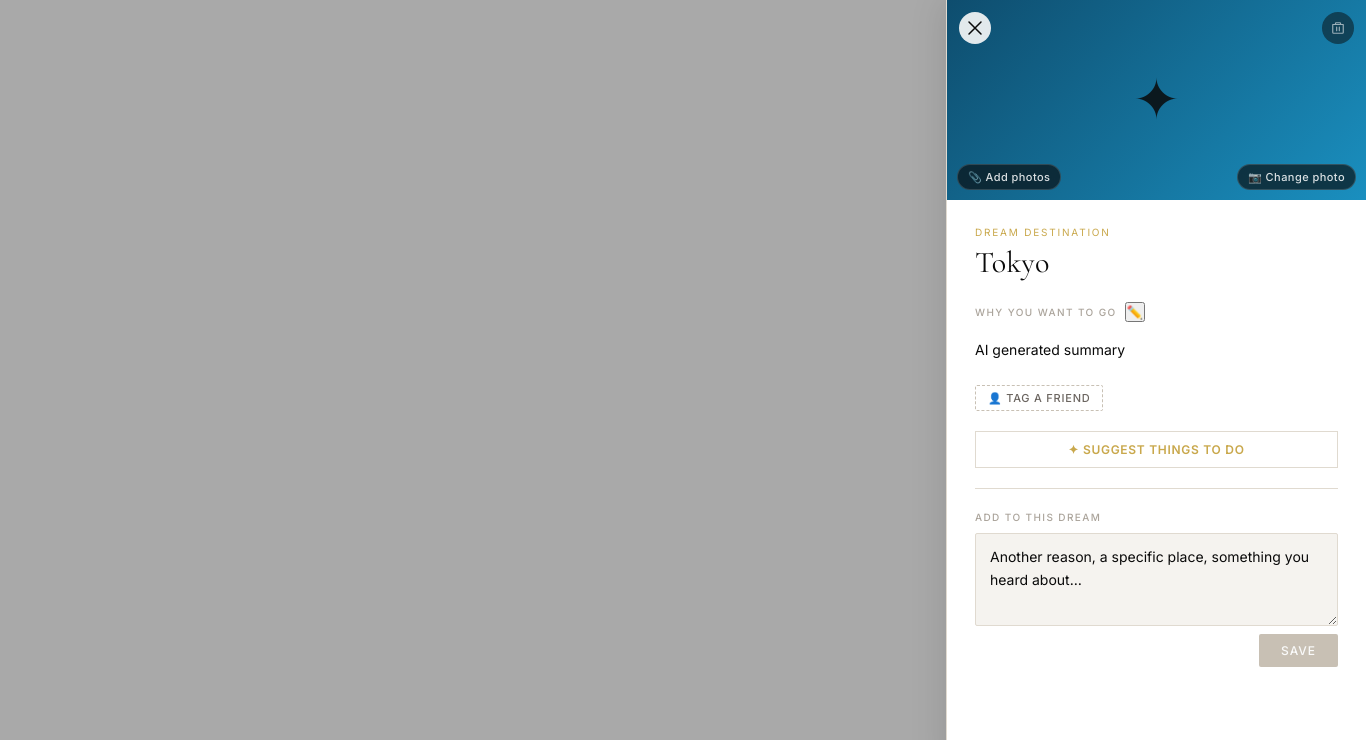
Test case: TT28: DreamDetail dreamNote inline editing › falls back to aiSummary when dreamNote is absent
Step 1. Click the button "✏️" → (1135, 312), box [1125,302,1145,322]
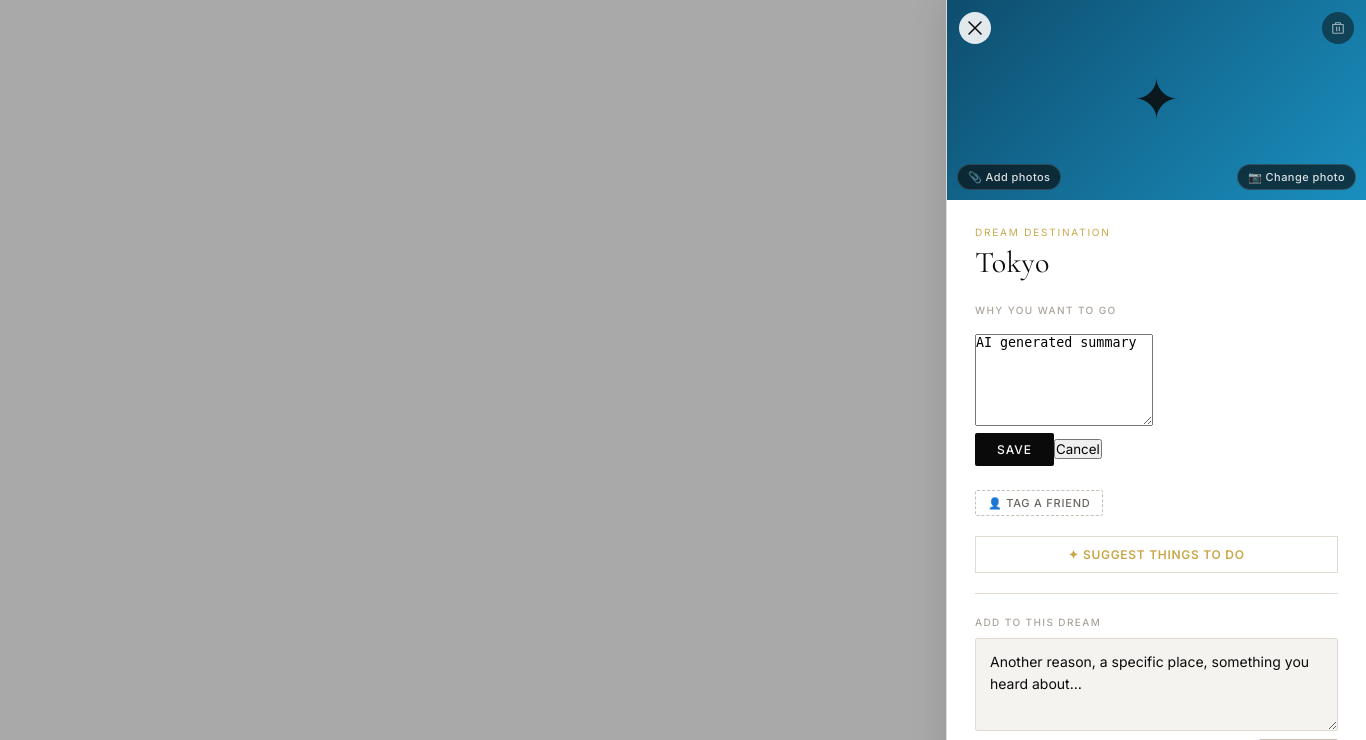
Now the text box with placeholder "Why do you want to go here?" holds "AI generated summary", box [975,334,1153,426]
